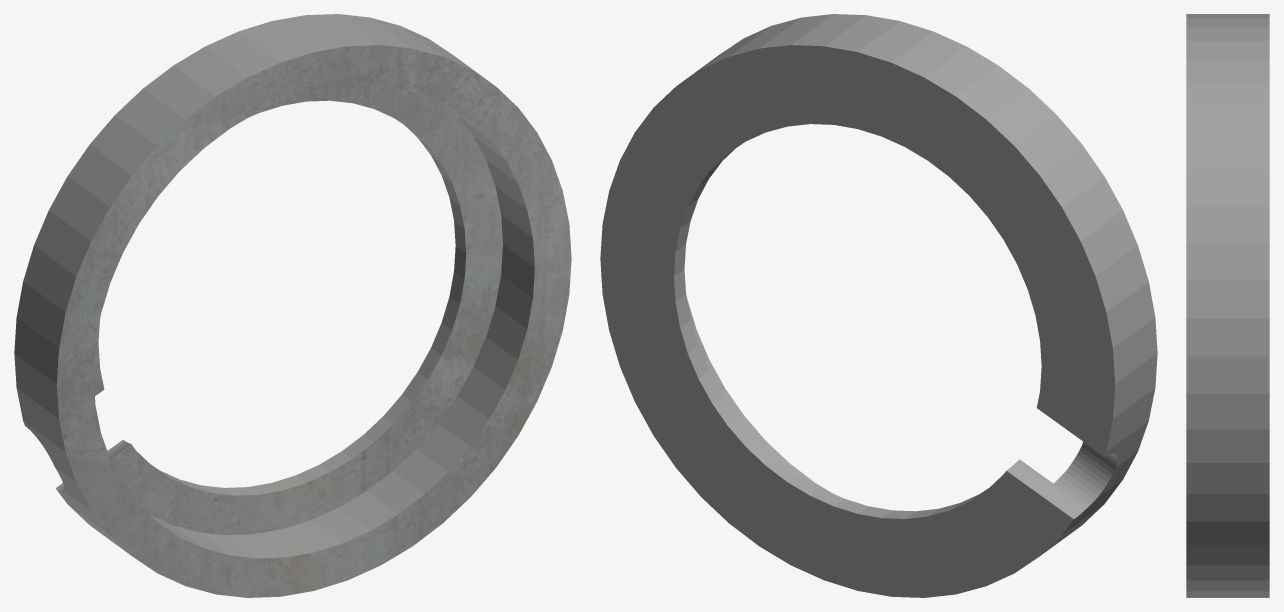
File: pool_006.obj
3 renders of one model, left to right at view 1: azimuth 30°, elevation 25°; view 2: azimuth 150°, elevation 25°; view 3: azimuth 270°, elevation 25°, orthographic.
Bounding box in the file's own units: 14 × 14 × 2.
